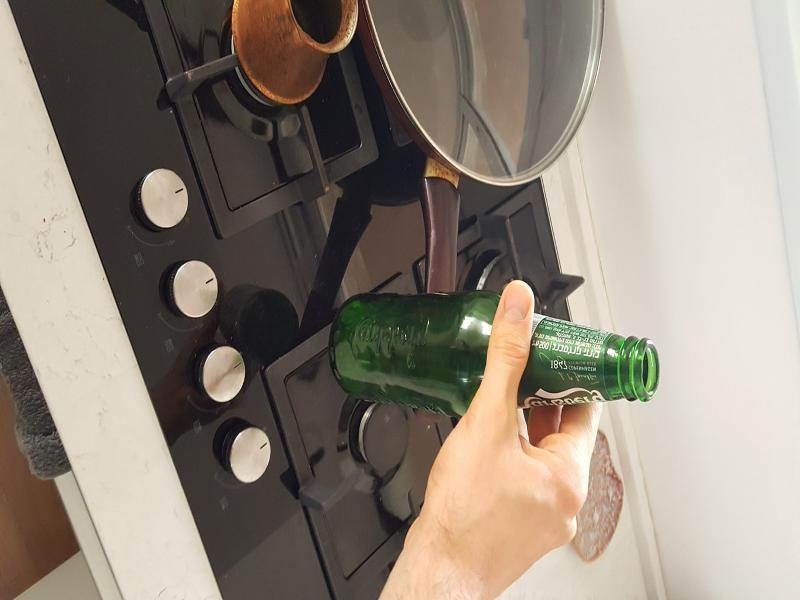Beer: (330, 293, 655, 403)
